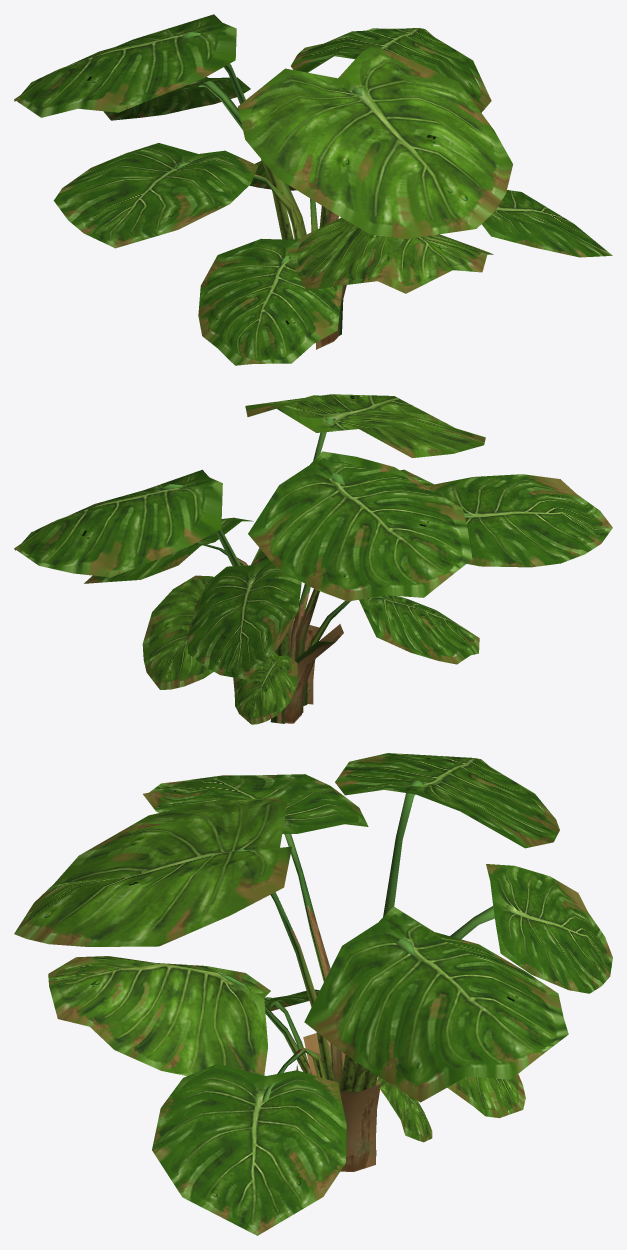
File: Grass_17.fbx
3 renders of one model, top to bottom at view 1: azimuth 30°, elevation 25°; view 2: azimuth 150°, elevation 25°; view 3: azimuth 270°, elevation 25°, orthographic. The views are drawn at different scales.
Parts seen in each view (by area): view 1: monstera_Dried_Leaf_01; view 2: monstera_Dried_Leaf_01; view 3: monstera_Dried_Leaf_01.
Part boxes in pixels (x1,y1,x2,y2): monstera_Dried_Leaf_01: [14, 14, 612, 365]; monstera_Dried_Leaf_01: [14, 394, 612, 724]; monstera_Dried_Leaf_01: [14, 753, 612, 1235].
Bounding box in the file's own units: 4.52 × 2.5 × 4.
